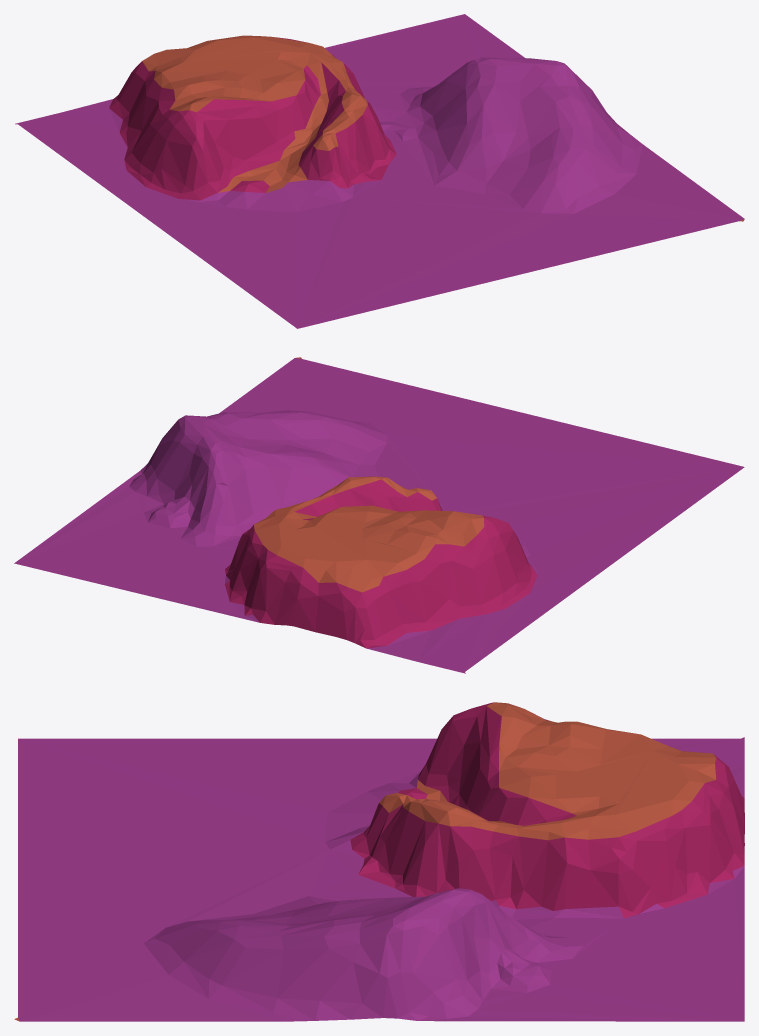
Rendered from Bioma3.fbx.
3 renders of one model, top to bottom at view 1: azimuth 30°, elevation 25°; view 2: azimuth 150°, elevation 25°; view 3: azimuth 270°, elevation 25°, orthographic. The views are drawn at different scales.
Visible parts, largest first — view 1: TerrainZone3.002; view 2: TerrainZone3.002; view 3: TerrainZone3.002.
Part boxes in pixels (left/top/right/bottom): TerrainZone3.002: left=15, top=14, right=744, bottom=328; TerrainZone3.002: left=14, top=357, right=744, bottom=673; TerrainZone3.002: left=14, top=702, right=744, bottom=1021.
Bounding box in the file's own units: 26802 × 3914 × 29070.
